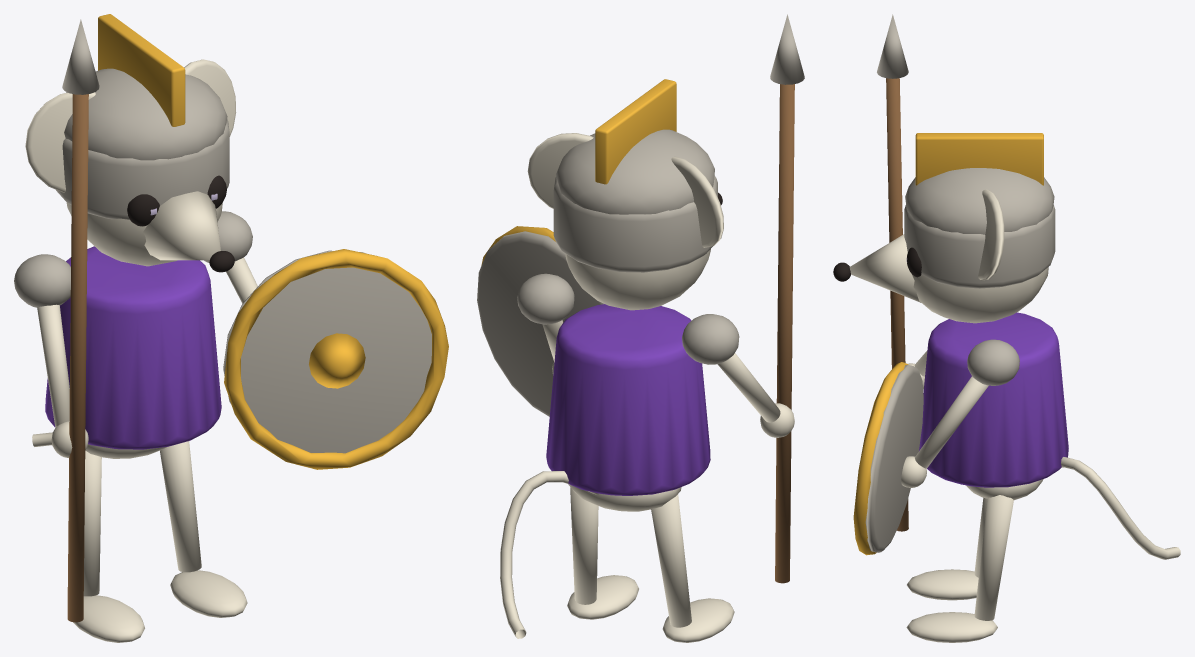
The model's file is TheVanguard.fbx.
The picture shows the model from 3 angles, left to right: view 1: azimuth 30°, elevation 25°; view 2: azimuth 150°, elevation 25°; view 3: azimuth 270°, elevation 25°; orthographic projection. The views are drawn at different scales.
Visible parts, largest first — view 1: TheVanguard, Gear_anankian_shield, Gear_anankian_helmet; view 2: TheVanguard, Gear_anankian_helmet, Gear_anankian_shield; view 3: TheVanguard, Gear_anankian_helmet, Gear_anankian_shield.
Boxes of the visible parts, box(x1,y1,x2,y2) form: TheVanguard: box(14, 19, 257, 642); Gear_anankian_shield: box(223, 249, 448, 469); Gear_anankian_helmet: box(56, 14, 229, 219); TheVanguard: box(500, 14, 804, 642); Gear_anankian_helmet: box(553, 79, 717, 272); Gear_anankian_shield: box(477, 226, 603, 416); TheVanguard: box(833, 14, 1180, 642); Gear_anankian_helmet: box(904, 133, 1055, 288); Gear_anankian_shield: box(853, 362, 923, 555).
Bounding box in the file's own units: 0.7822 × 1.34 × 0.7586.
